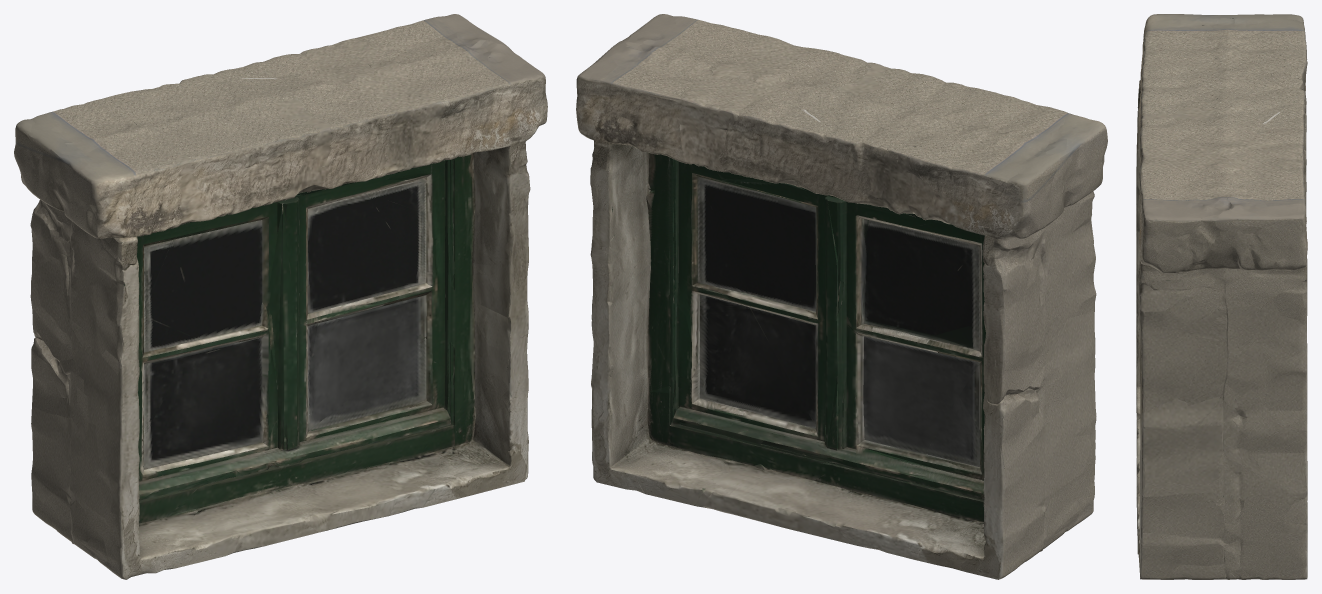
Rendered from familok_attic_window.glb.
3 views of the same model, side by side, from view 1: azimuth 30°, elevation 25°; view 2: azimuth 150°, elevation 25°; view 3: azimuth 270°, elevation 25° (orthographic). The views are drawn at different scales.
Bounding box in the file's own units: 1.9 × 1.62 × 0.6672.
Materials: 1 (1 with a texture image).
